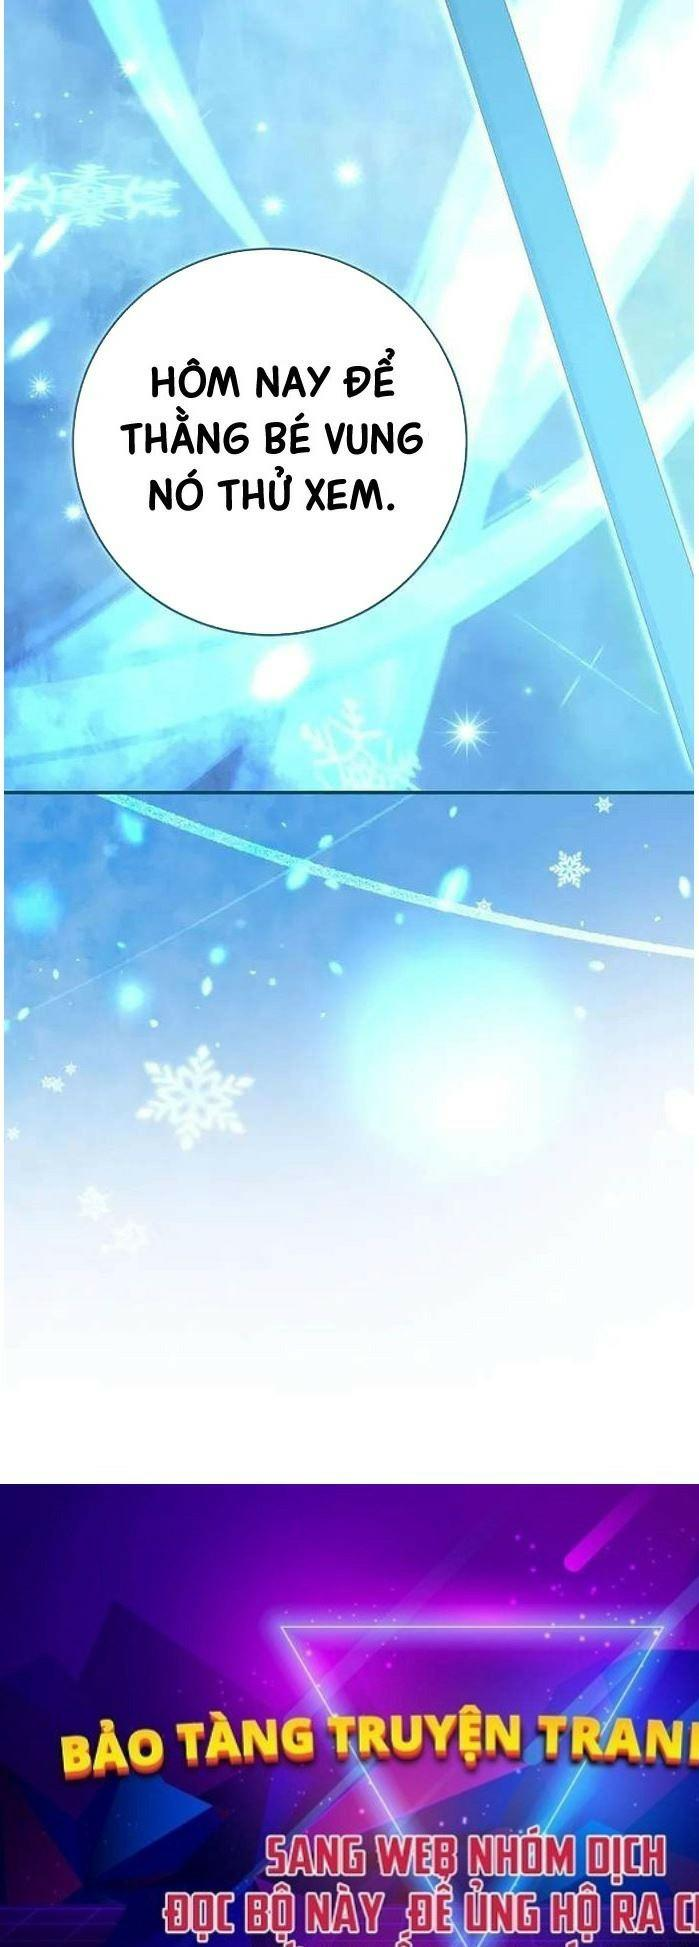quangcao: (5, 1483, 698, 1945)
